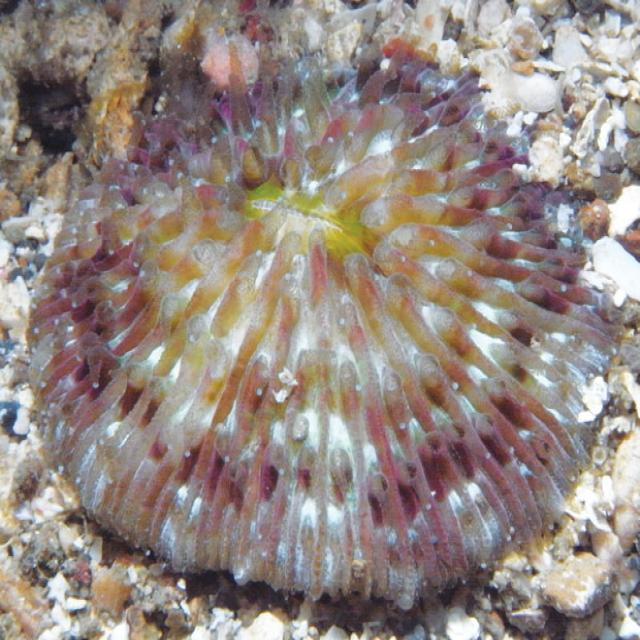Healthy Coral: (41, 26, 598, 609)
